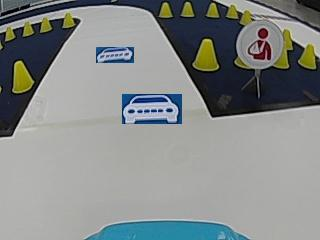cone: (193, 38, 218, 71), (12, 60, 33, 92), (299, 43, 316, 69), (274, 46, 289, 69), (158, 2, 173, 18), (180, 2, 195, 17), (62, 12, 75, 28), (239, 9, 252, 24), (206, 3, 219, 17), (22, 21, 34, 36), (40, 17, 52, 32), (226, 4, 238, 18), (4, 26, 15, 40)
patient: (239, 22, 279, 65)
